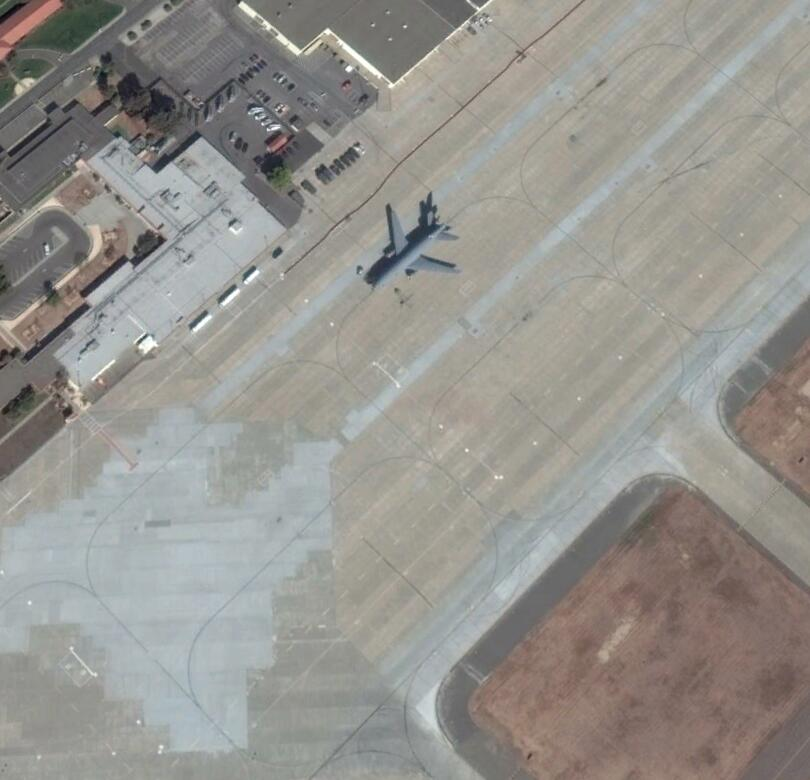A18: (365, 202, 463, 289)
